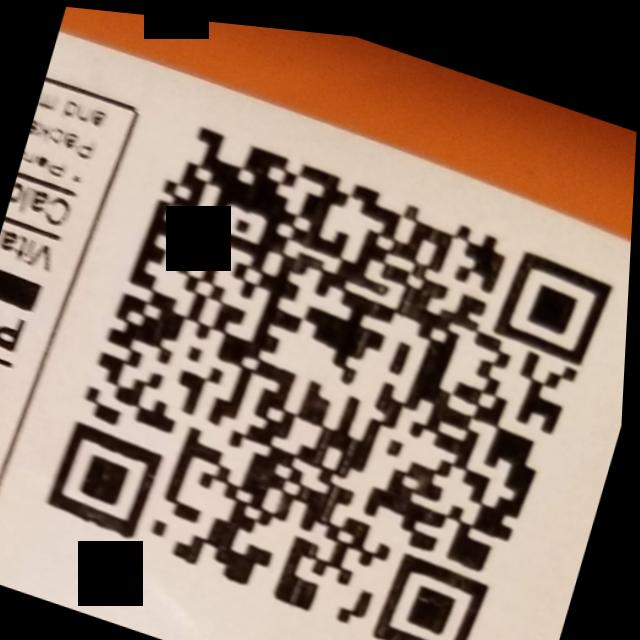QR_CODE: (15, 77, 637, 640)
